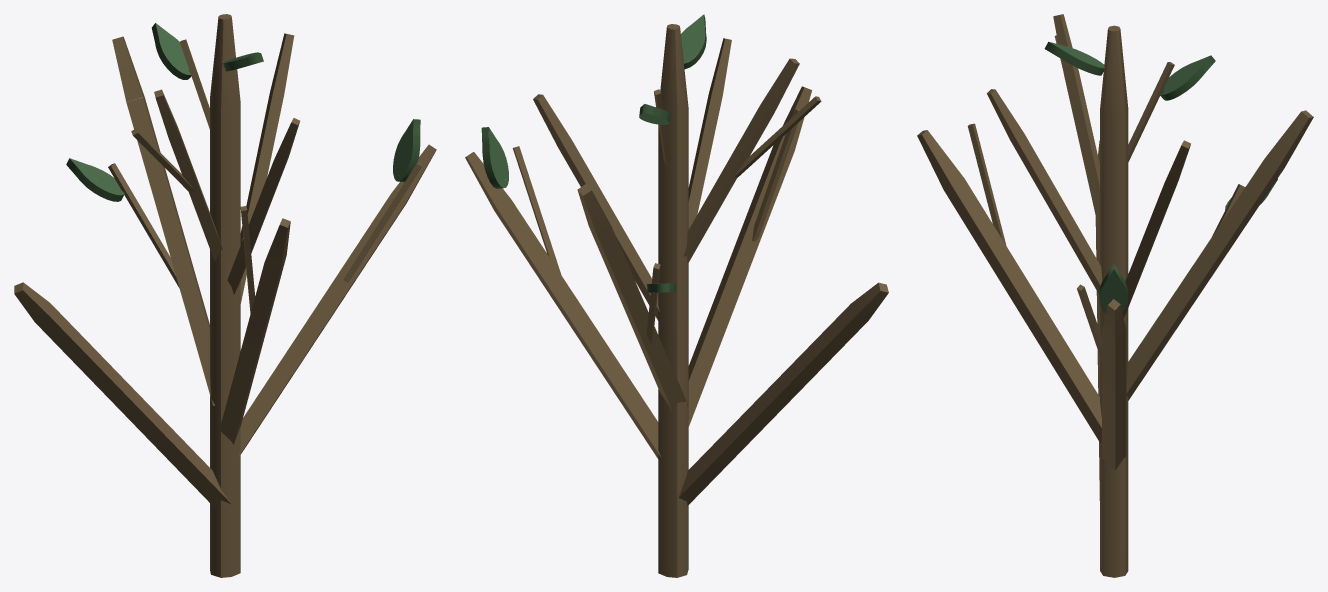
File: BushBranches.fbx
3 views of the same model, side by side, from view 1: azimuth 30°, elevation 25°; view 2: azimuth 150°, elevation 25°; view 3: azimuth 270°, elevation 25° (orthographic). The views are drawn at different scales.
Parts seen in each view (by area): view 1: pCube1, pasted__pasted__pCube2, pCube2, pasted__pCube2, pasted__pCube3, pasted__pCube4, pasted__pasted__pCube3, pasted__pasted__pasted__pCube2, pasted__pasted__pCylinder1, pasted__pCylinder2, pasted__pCylinder1, pasted__pasted__pasted__pasted__pasted__pCube2 (+4 smaller); view 2: pCube1, pasted__pasted__pCube2, pasted__pCube2, pasted__pCube3, pCube2, pasted__pasted__pCube3, pasted__pCube4, pasted__pasted__pasted__pCube2, pasted__pCylinder2, pasted__pasted__pasted__pasted__pasted__pasted__pCube2, pCylinder1, pasted__pasted__pasted__pasted__pCube2 (+1 smaller); view 3: pCube1, pasted__pCube3, pCube2, pasted__pCube2, pasted__pasted__pasted__pCube2, pasted__pasted__pCube3, pasted__pCube4, pasted__pCylinder1, pasted__pasted__pasted__pasted__pasted__pasted__pCube2, pasted__pCylinder2, pCylinder1, pasted__pasted__pasted__pasted__pasted__pasted__pasted__past (+1 smaller).
Part boxes in pixels (x1,y1,x2,y2): pCube1: (210,14,240,577); pasted__pasted__pCube2: (14,282,232,507); pCube2: (112,36,215,405); pasted__pCube2: (238,144,436,457); pasted__pCube3: (219,218,290,444); pasted__pCube4: (240,33,294,303); pasted__pasted__pCube3: (154,89,222,261); pasted__pasted__pasted__pCube2: (227,118,299,294); pasted__pasted__pCylinder1: (66,158,124,201); pasted__pCylinder2: (393,119,420,182); pasted__pCylinder1: (151,23,191,79); pasted__pasted__pasted__pasted__pasted__pCube2: (108,163,179,287); pCube1: (658,24,688,577); pasted__pasted__pCube2: (678,282,888,505); pasted__pCube2: (465,152,661,458); pasted__pCube3: (688,86,811,427); pCube2: (577,184,688,411); pasted__pasted__pCube3: (683,58,799,263); pasted__pCube4: (533,94,659,320); pasted__pasted__pasted__pCube2: (688,38,731,229); pasted__pCylinder2: (481,127,508,188); pasted__pasted__pasted__pasted__pasted__pasted__pCube2: (752,108,799,241); pCylinder1: (681,14,706,68); pasted__pasted__pasted__pasted__pCube2: (512,146,561,274); pCube1: (1100,25,1128,577); pasted__pCube3: (917,130,1101,443); pCube2: (1126,110,1313,400); pasted__pCube2: (1102,299,1126,470); pasted__pasted__pasted__pCube2: (987,89,1102,294); pasted__pasted__pCube3: (1053,14,1099,233); pasted__pCube4: (1122,140,1190,317); pasted__pCylinder1: (1160,55,1215,100); pasted__pasted__pasted__pasted__pasted__pasted__pCube2: (967,123,1006,245); pasted__pCylinder2: (1099,263,1127,313); pCylinder1: (1044,41,1104,75); pasted__pasted__pasted__pasted__pasted__pasted__pasted__past: (1127,62,1174,162).
Size of the model in its own units: 83.52 by 104 by 68.69.
1 material, 1 textured.
